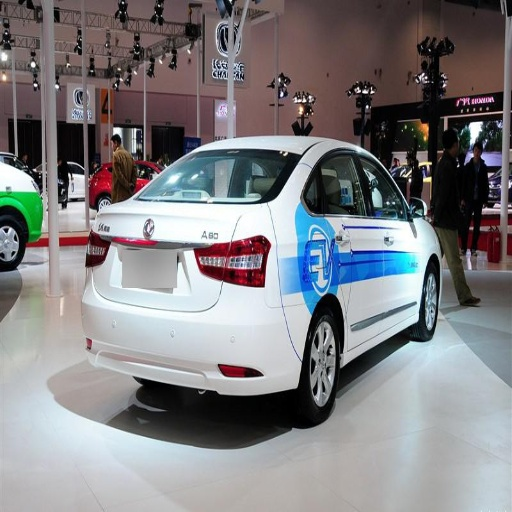back_bumper: (81, 268, 312, 397)
back_right_door: (315, 148, 383, 346)
tailgate: (94, 199, 249, 311)
